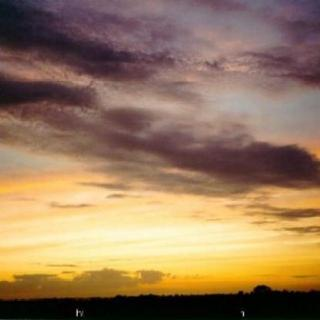Cirrostratus: (0, 0, 320, 246)
